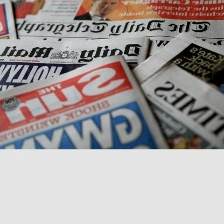news_paper: (0, 51, 174, 150), (11, 0, 224, 59), (126, 29, 223, 151), (0, 33, 151, 91)
